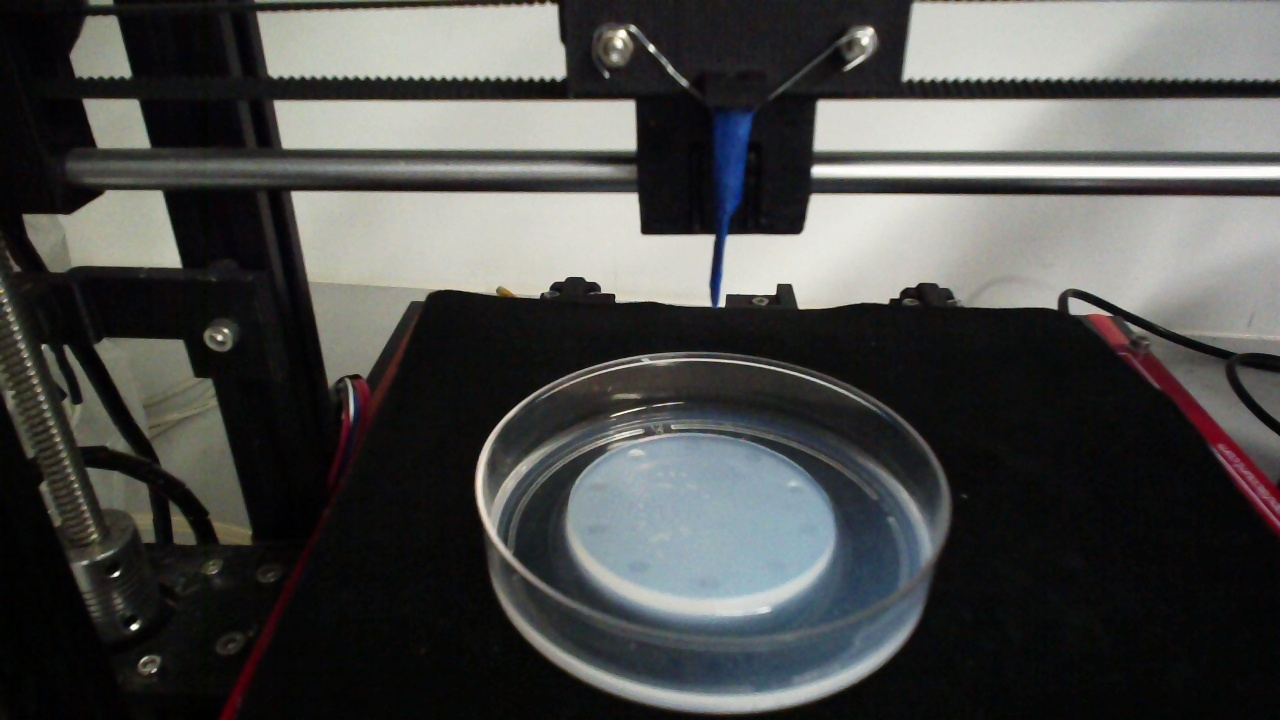groove: (694, 573, 720, 591), (793, 519, 819, 536), (783, 478, 806, 497), (762, 557, 787, 574), (626, 559, 650, 576), (625, 446, 646, 462), (583, 522, 607, 536), (586, 480, 609, 494), (681, 440, 702, 454), (742, 451, 763, 464)
needle: (709, 109, 751, 306)
